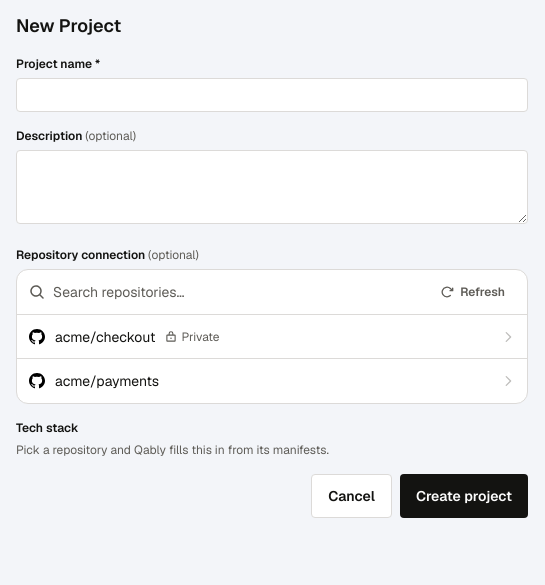
it: NewProjectForm against the api › surfaces the api error message and stays on the form
Type "Shop" into the field labelled "Project name *" at [272, 95], box [16,78,528,112]
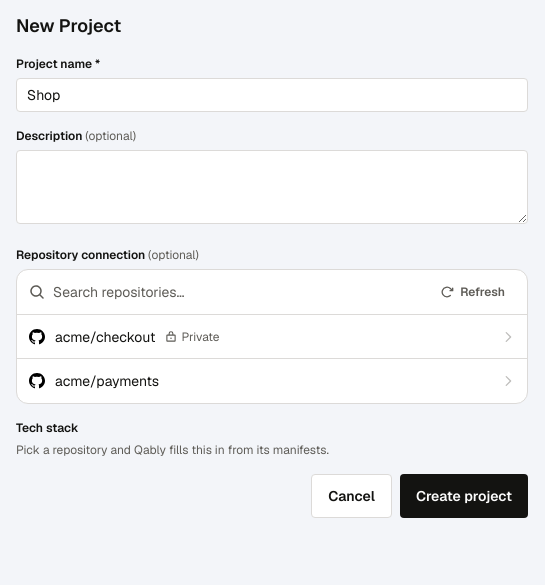
Click the button "Create project" at [464, 496], box [400,474,528,518]
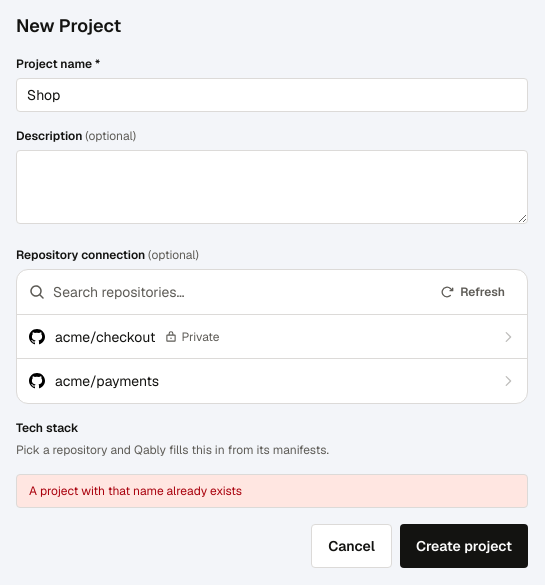
Result: the text "A project with that name already exists" is shown at [16,474,528,508]
